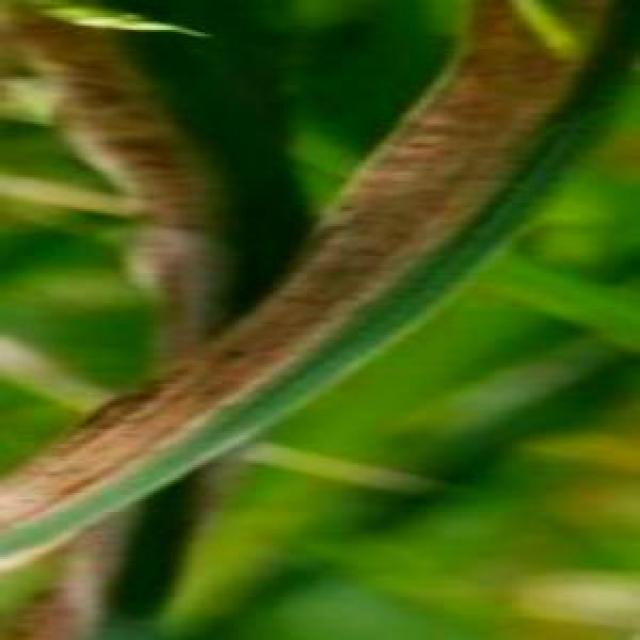Rice_Bacterial_Blight: (348, 34, 594, 314)
